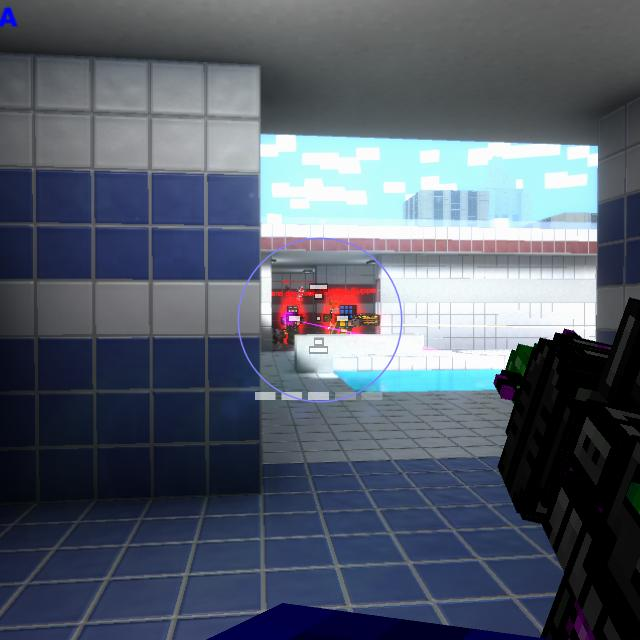Enemy: (324, 303, 365, 332), (281, 303, 307, 343)
